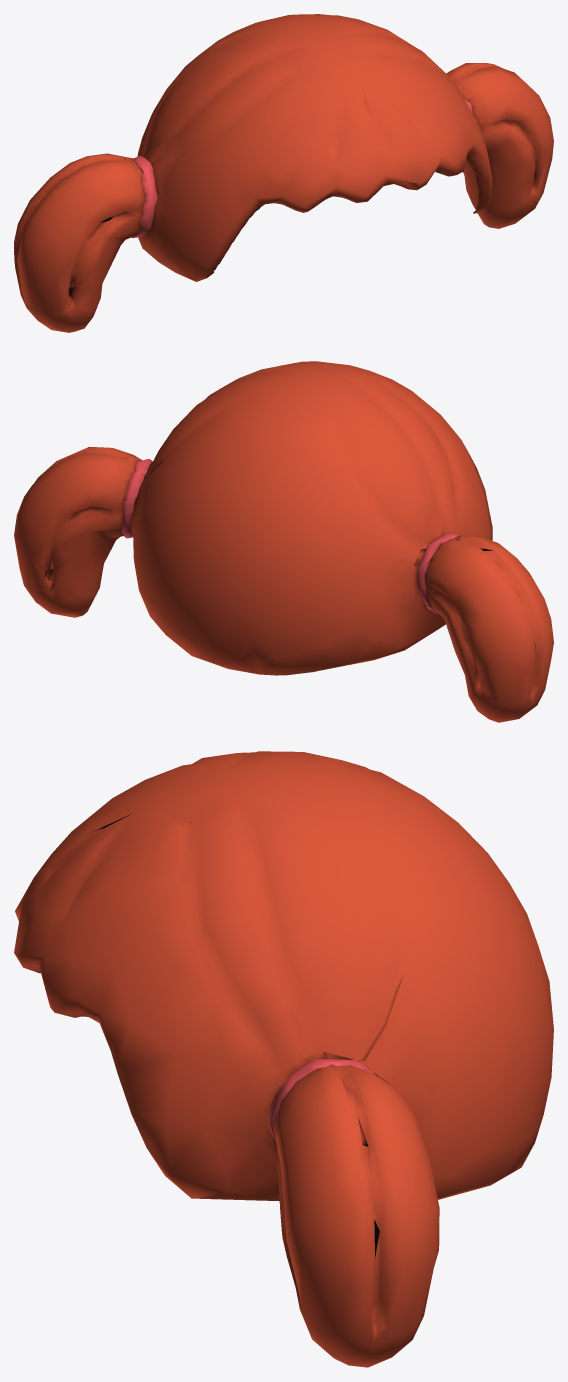
Rendered from hair_pigtails.glb.
The picture shows the model from 3 angles, top to bottom: view 1: azimuth 30°, elevation 25°; view 2: azimuth 150°, elevation 25°; view 3: azimuth 270°, elevation 25°; orthographic projection. The views are drawn at different scales.
Visible parts, largest first — view 1: hair_pigtails, PigtailR, PigtailL; view 2: hair_pigtails, PigtailR, PigtailL; view 3: hair_pigtails, PigtailL.
Boxes of the visible parts, x1=… form: hair_pigtails: x1=131, y1=14, x2=492, y2=281; PigtailR: x1=14, y1=153, x2=146, y2=332; PigtailL: x1=446, y1=63, x2=553, y2=228; hair_pigtails: x1=121, y1=361, x2=492, y2=675; PigtailR: x1=425, y1=537, x2=553, y2=722; PigtailL: x1=14, y1=446, x2=142, y2=617; hair_pigtails: x1=14, y1=751, x2=553, y2=1201; PigtailL: x1=273, y1=1065, x2=439, y2=1367.
Size of the model in its own units: 0.9801 by 0.4798 by 0.5556.
Materials: 2 (2 with a texture image).
